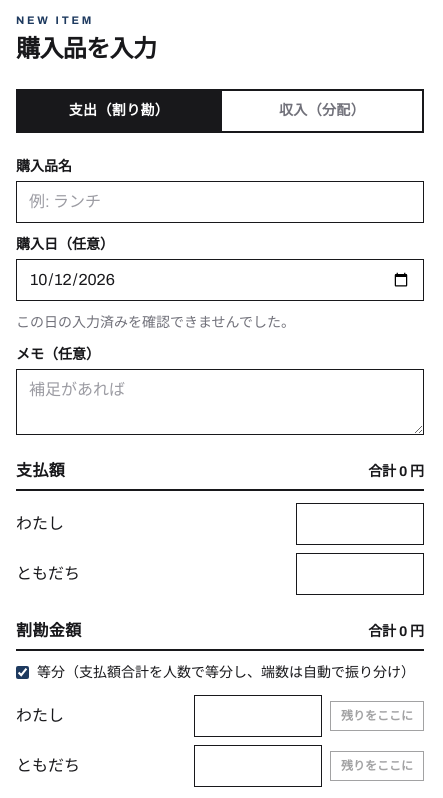
Test: 等分 ON 中に割勘を手入力するとスイッチが OFF になる
Type "1000" into the number field named "わたし の支払額".
click(360, 524); type("1000")  # box x1=296 y1=502 x2=424 y2=544
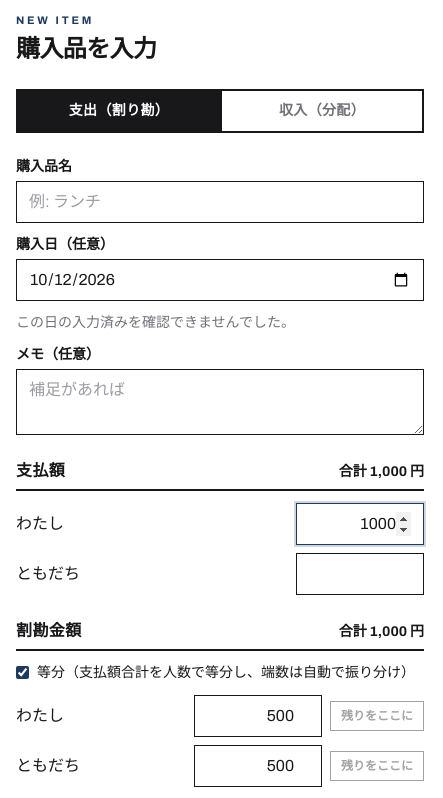
Expected: the checkbox is checked, x1=16 y1=666 x2=29 y2=679
Note: 割勘を手入力 → 等分の意思を撤回したとみなしスイッチ自動 OFF。
Type "1" into the number field named "ともだち の割勘金額".
click(258, 766); type("1")  # box x1=194 y1=744 x2=322 y2=786
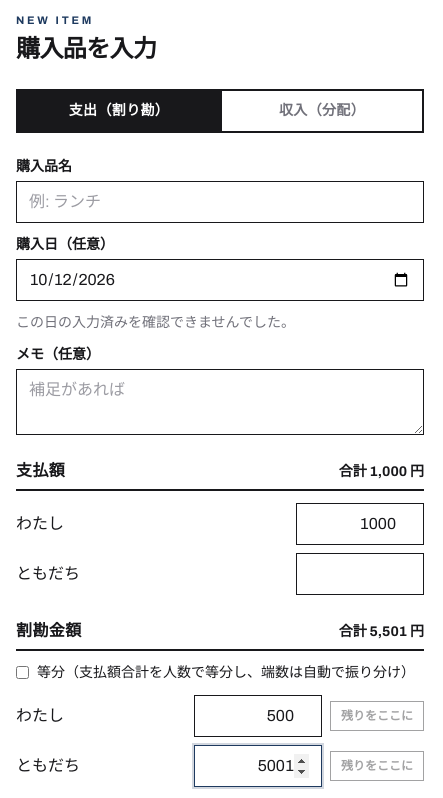
Now the checkbox is not checked, box x1=16 y1=666 x2=29 y2=679
